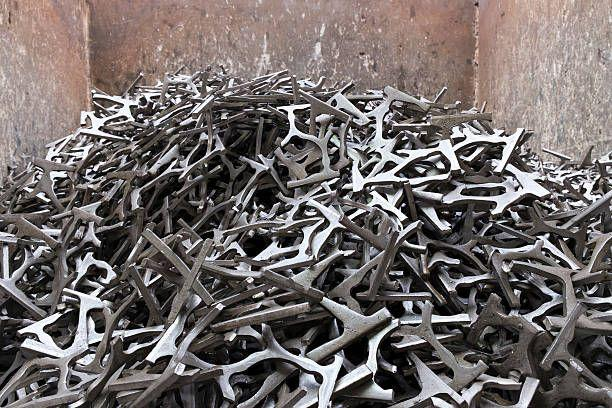metal: (0, 66, 612, 408)
